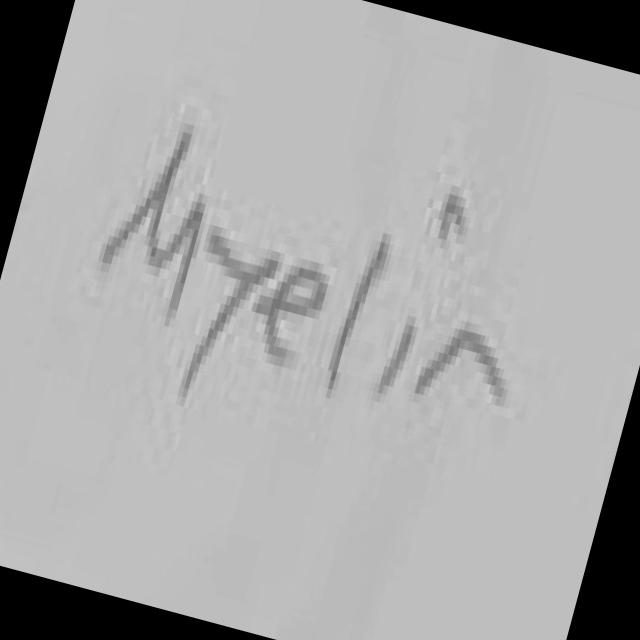M: (103, 132, 204, 314)
e: (256, 268, 326, 365)
i: (378, 327, 416, 390), (441, 194, 467, 240)
l: (328, 243, 390, 386)
n: (420, 331, 506, 406)
y: (180, 227, 281, 402)
